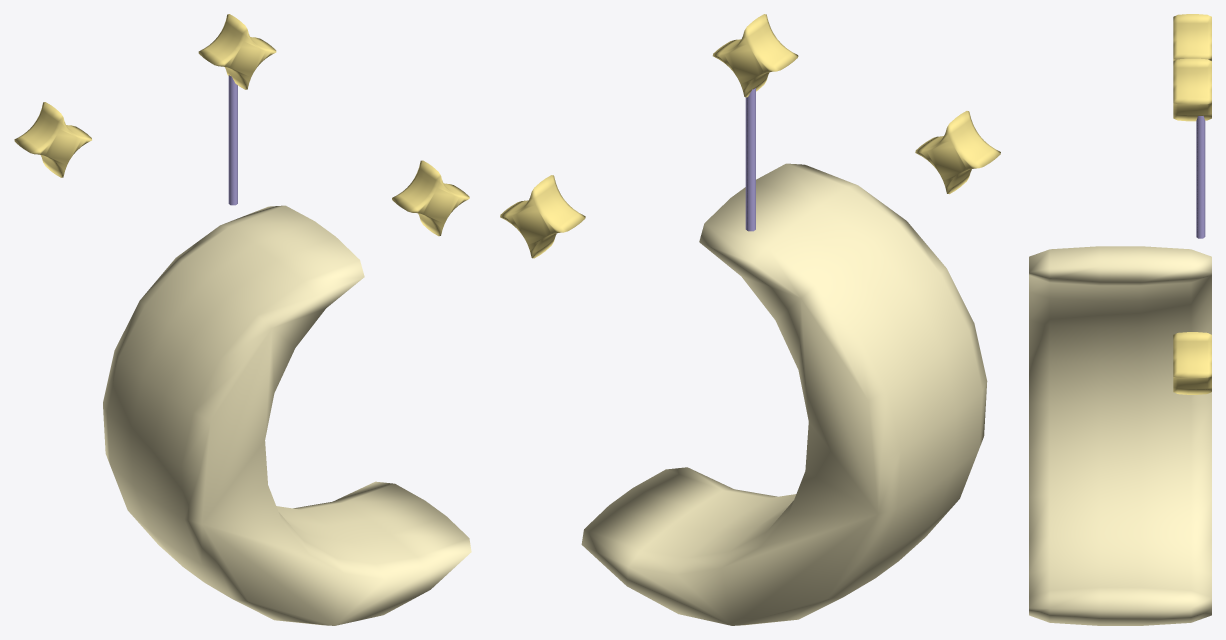
Rendered from decor_2_star.glb.
The picture shows the model from 3 angles, left to right: view 1: azimuth 30°, elevation 25°; view 2: azimuth 150°, elevation 25°; view 3: azimuth 270°, elevation 25°; orthographic projection. The views are drawn at different scales.
Visible parts, largest first — view 1: decor_2_star; view 2: decor_2_star; view 3: decor_2_star.
Part boxes in pixels (box(x1,y1,x2,y2)): decor_2_star: box(14, 14, 471, 625); decor_2_star: box(500, 14, 1000, 625); decor_2_star: box(1029, 14, 1211, 625).
Bounding box in the file's own units: 10.72 × 12.97 × 4.06.
